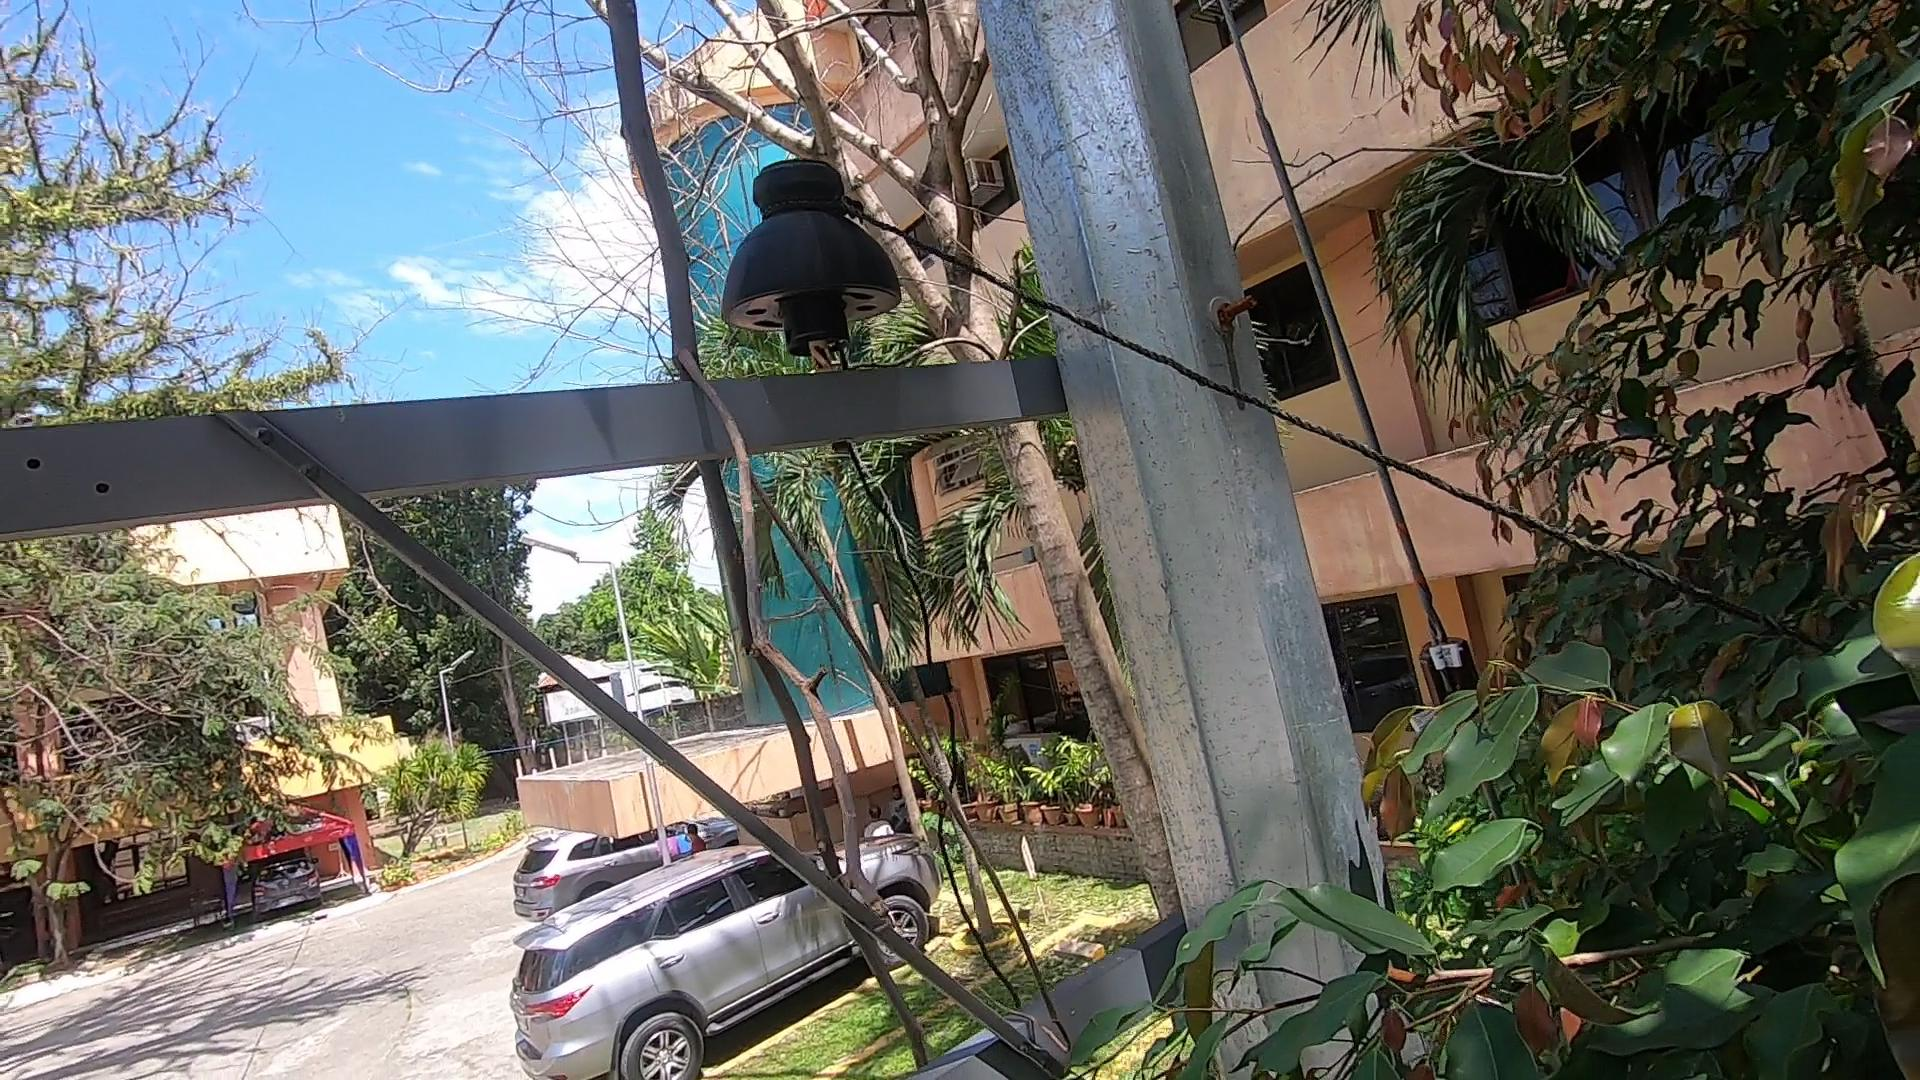tree branch: (579, 3, 1083, 1075)
